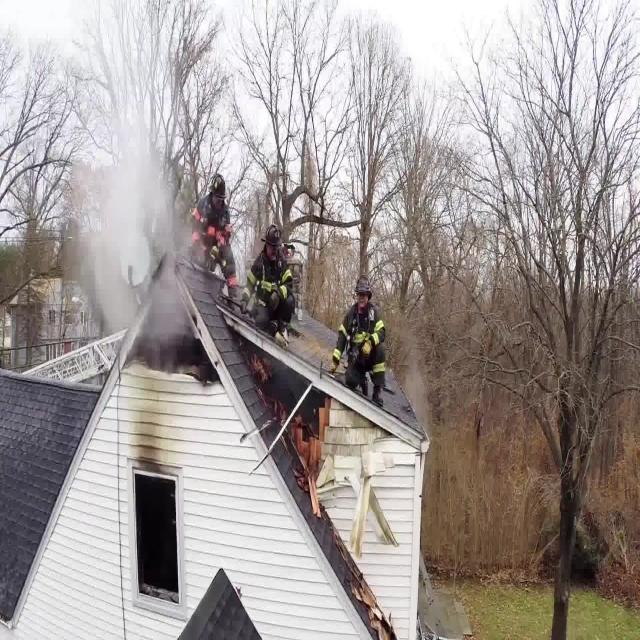Smoke: (82, 0, 192, 355)
